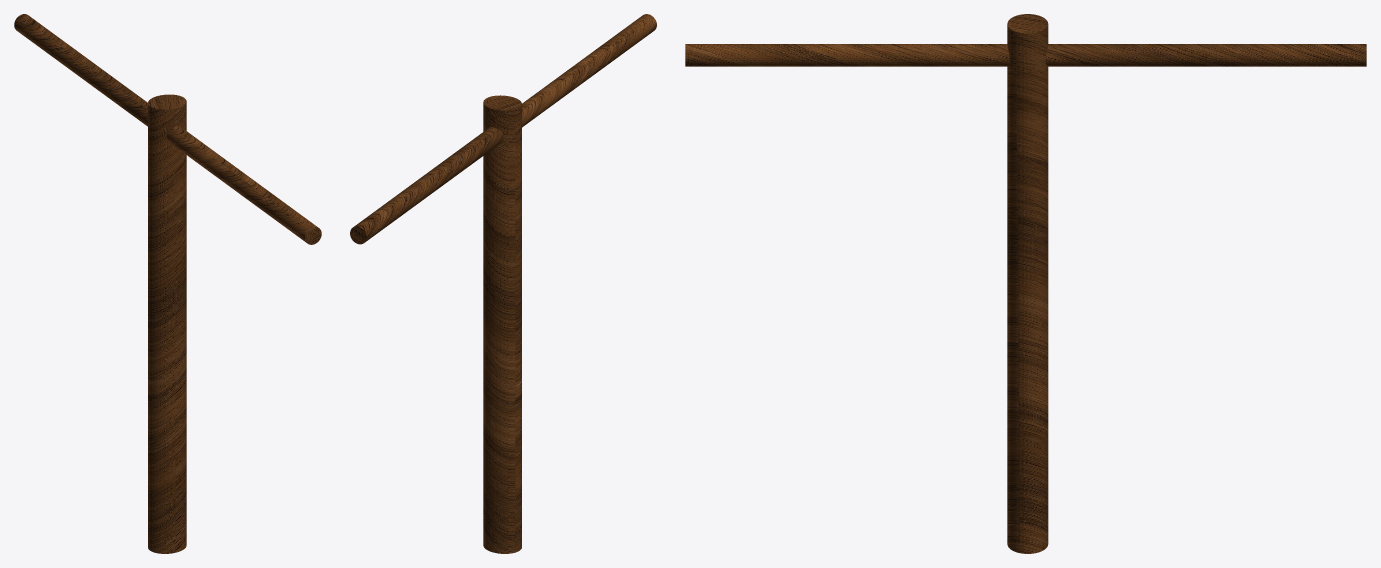
Rendered from raftMast.glb.
The picture shows the model from 3 angles, left to right: view 1: azimuth 30°, elevation 25°; view 2: azimuth 150°, elevation 25°; view 3: azimuth 270°, elevation 25°; orthographic projection. The views are drawn at different scales.
Visible parts, largest first — view 1: Raft Pole, Raft Pole.001; view 2: Raft Pole, Raft Pole.001; view 3: Raft Pole, Raft Pole.001.
Part boxes in pixels (x1,y1,x2,y2): Raft Pole: [148, 94, 186, 553]; Raft Pole.001: [14, 14, 321, 244]; Raft Pole: [483, 95, 521, 553]; Raft Pole.001: [350, 14, 656, 244]; Raft Pole: [1007, 14, 1048, 553]; Raft Pole.001: [685, 44, 1366, 66].
Bounding box in the file's own units: 0.4123 × 5.06 × 6.
Materials: 2 (2 with a texture image).
